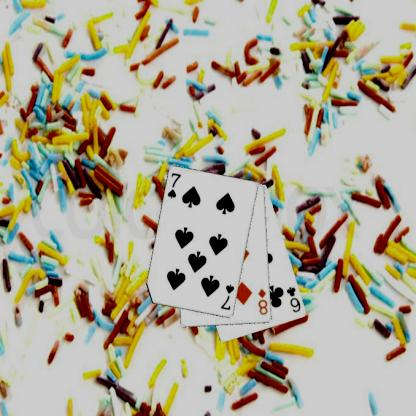6C: (284, 284, 302, 314)
7S: (218, 282, 235, 312), (165, 171, 182, 200)
8D: (255, 286, 269, 316)
